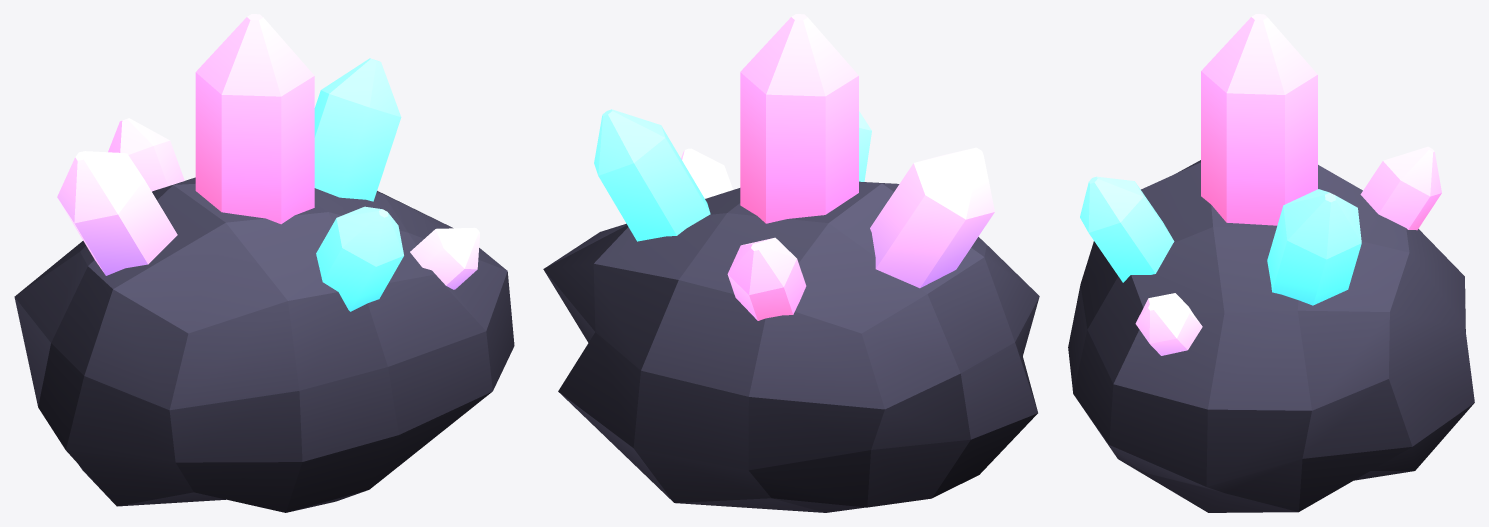
Rendered from PlayGround_Kit_Geode_Candy.fbx.
3 views of the same model, side by side, from view 1: azimuth 30°, elevation 25°; view 2: azimuth 150°, elevation 25°; view 3: azimuth 270°, elevation 25° (orthographic).
Visible parts, largest first — view 1: PlayGround_Kit_Geode_Candy; view 2: PlayGround_Kit_Geode_Candy; view 3: PlayGround_Kit_Geode_Candy.
Part boxes in pixels (left/top/right/bottom): PlayGround_Kit_Geode_Candy: left=14, top=14, right=514, bottom=512; PlayGround_Kit_Geode_Candy: left=543, top=14, right=1039, bottom=512; PlayGround_Kit_Geode_Candy: left=1068, top=14, right=1474, bottom=512.
Bounding box in the file's own units: 1.73 × 1.77 × 1.39.
